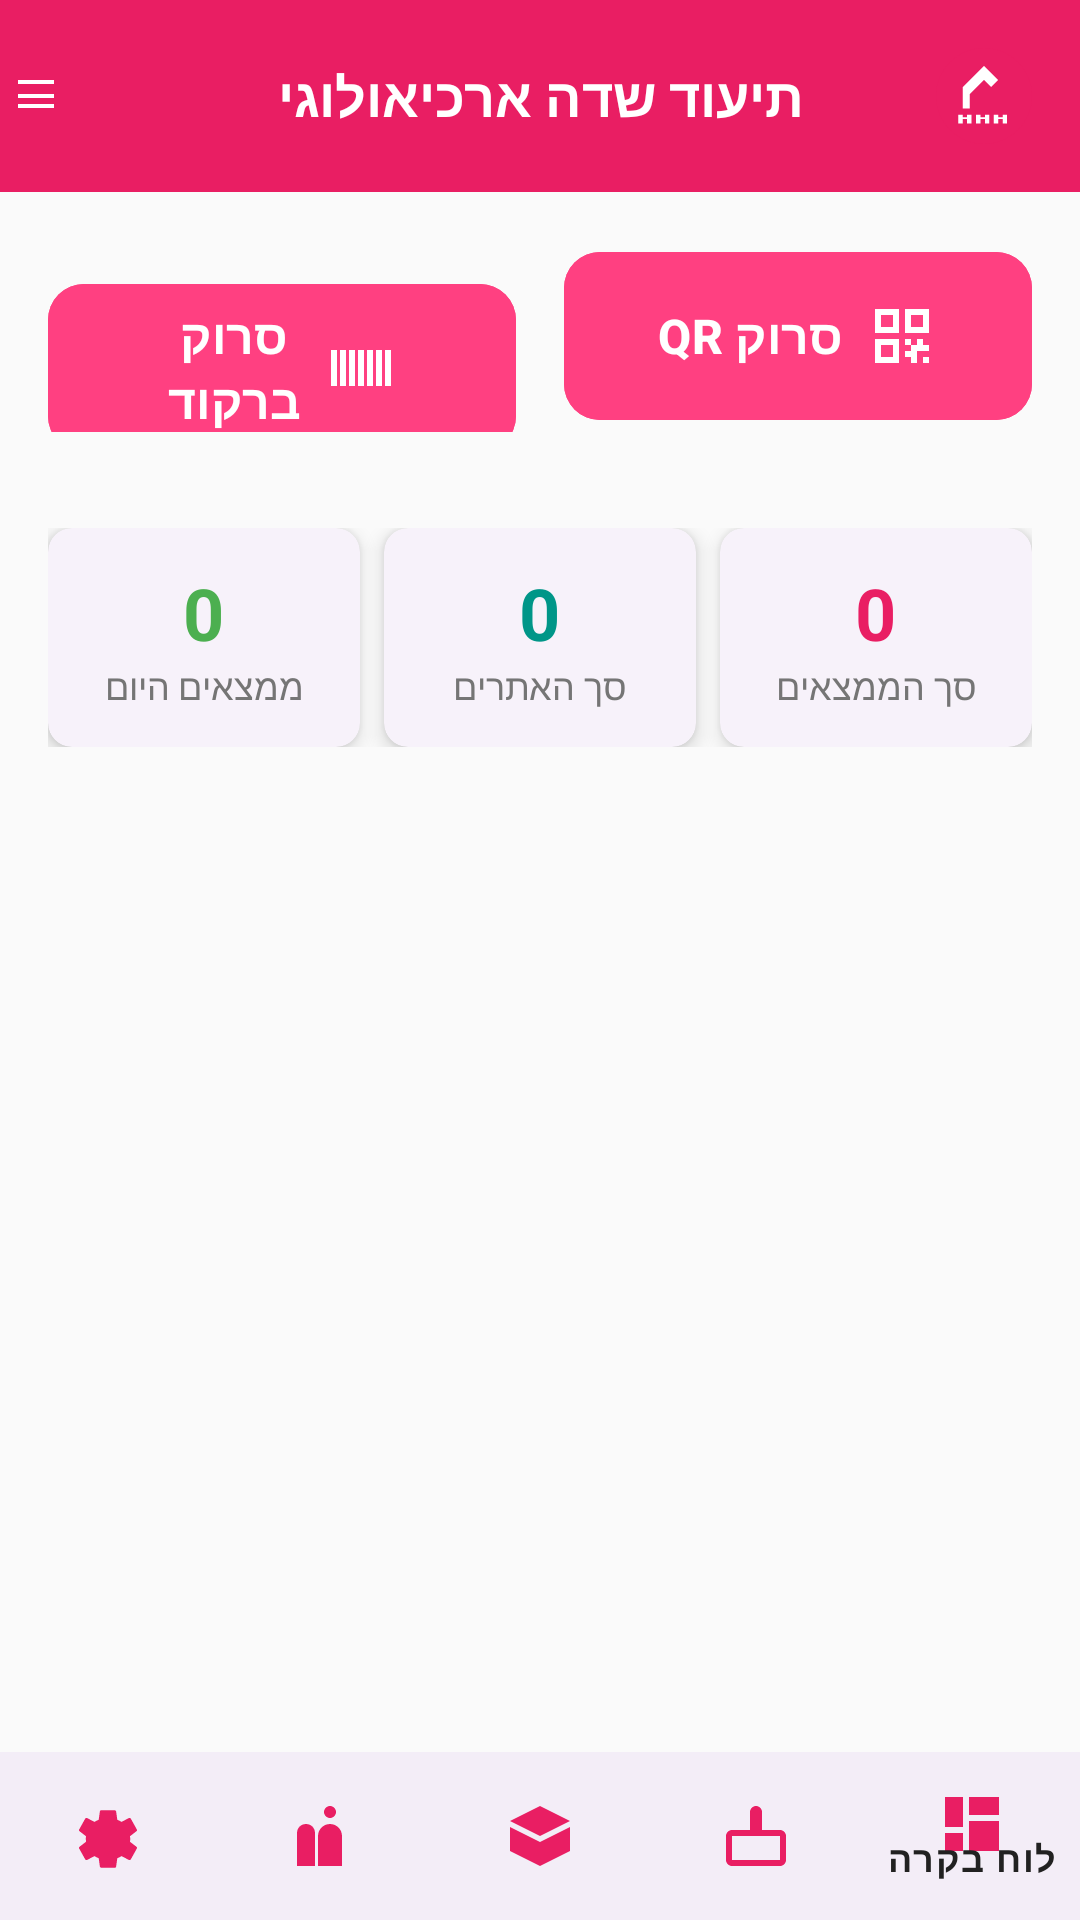

Icon bounding boxes for this 1080x1920 phone screenshot, format (x1, y1, x2, y2):
menu: (18, 80, 54, 108)
